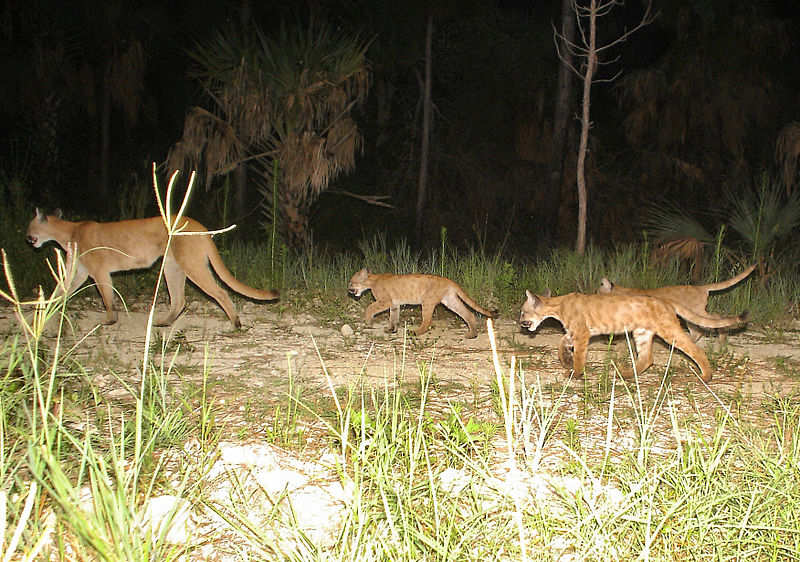OncaParda: (20, 203, 285, 341)
